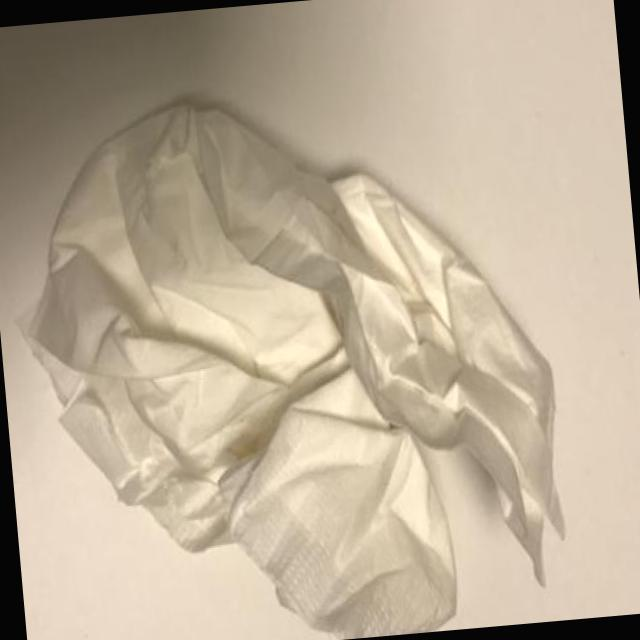giay: (14, 99, 566, 640)
